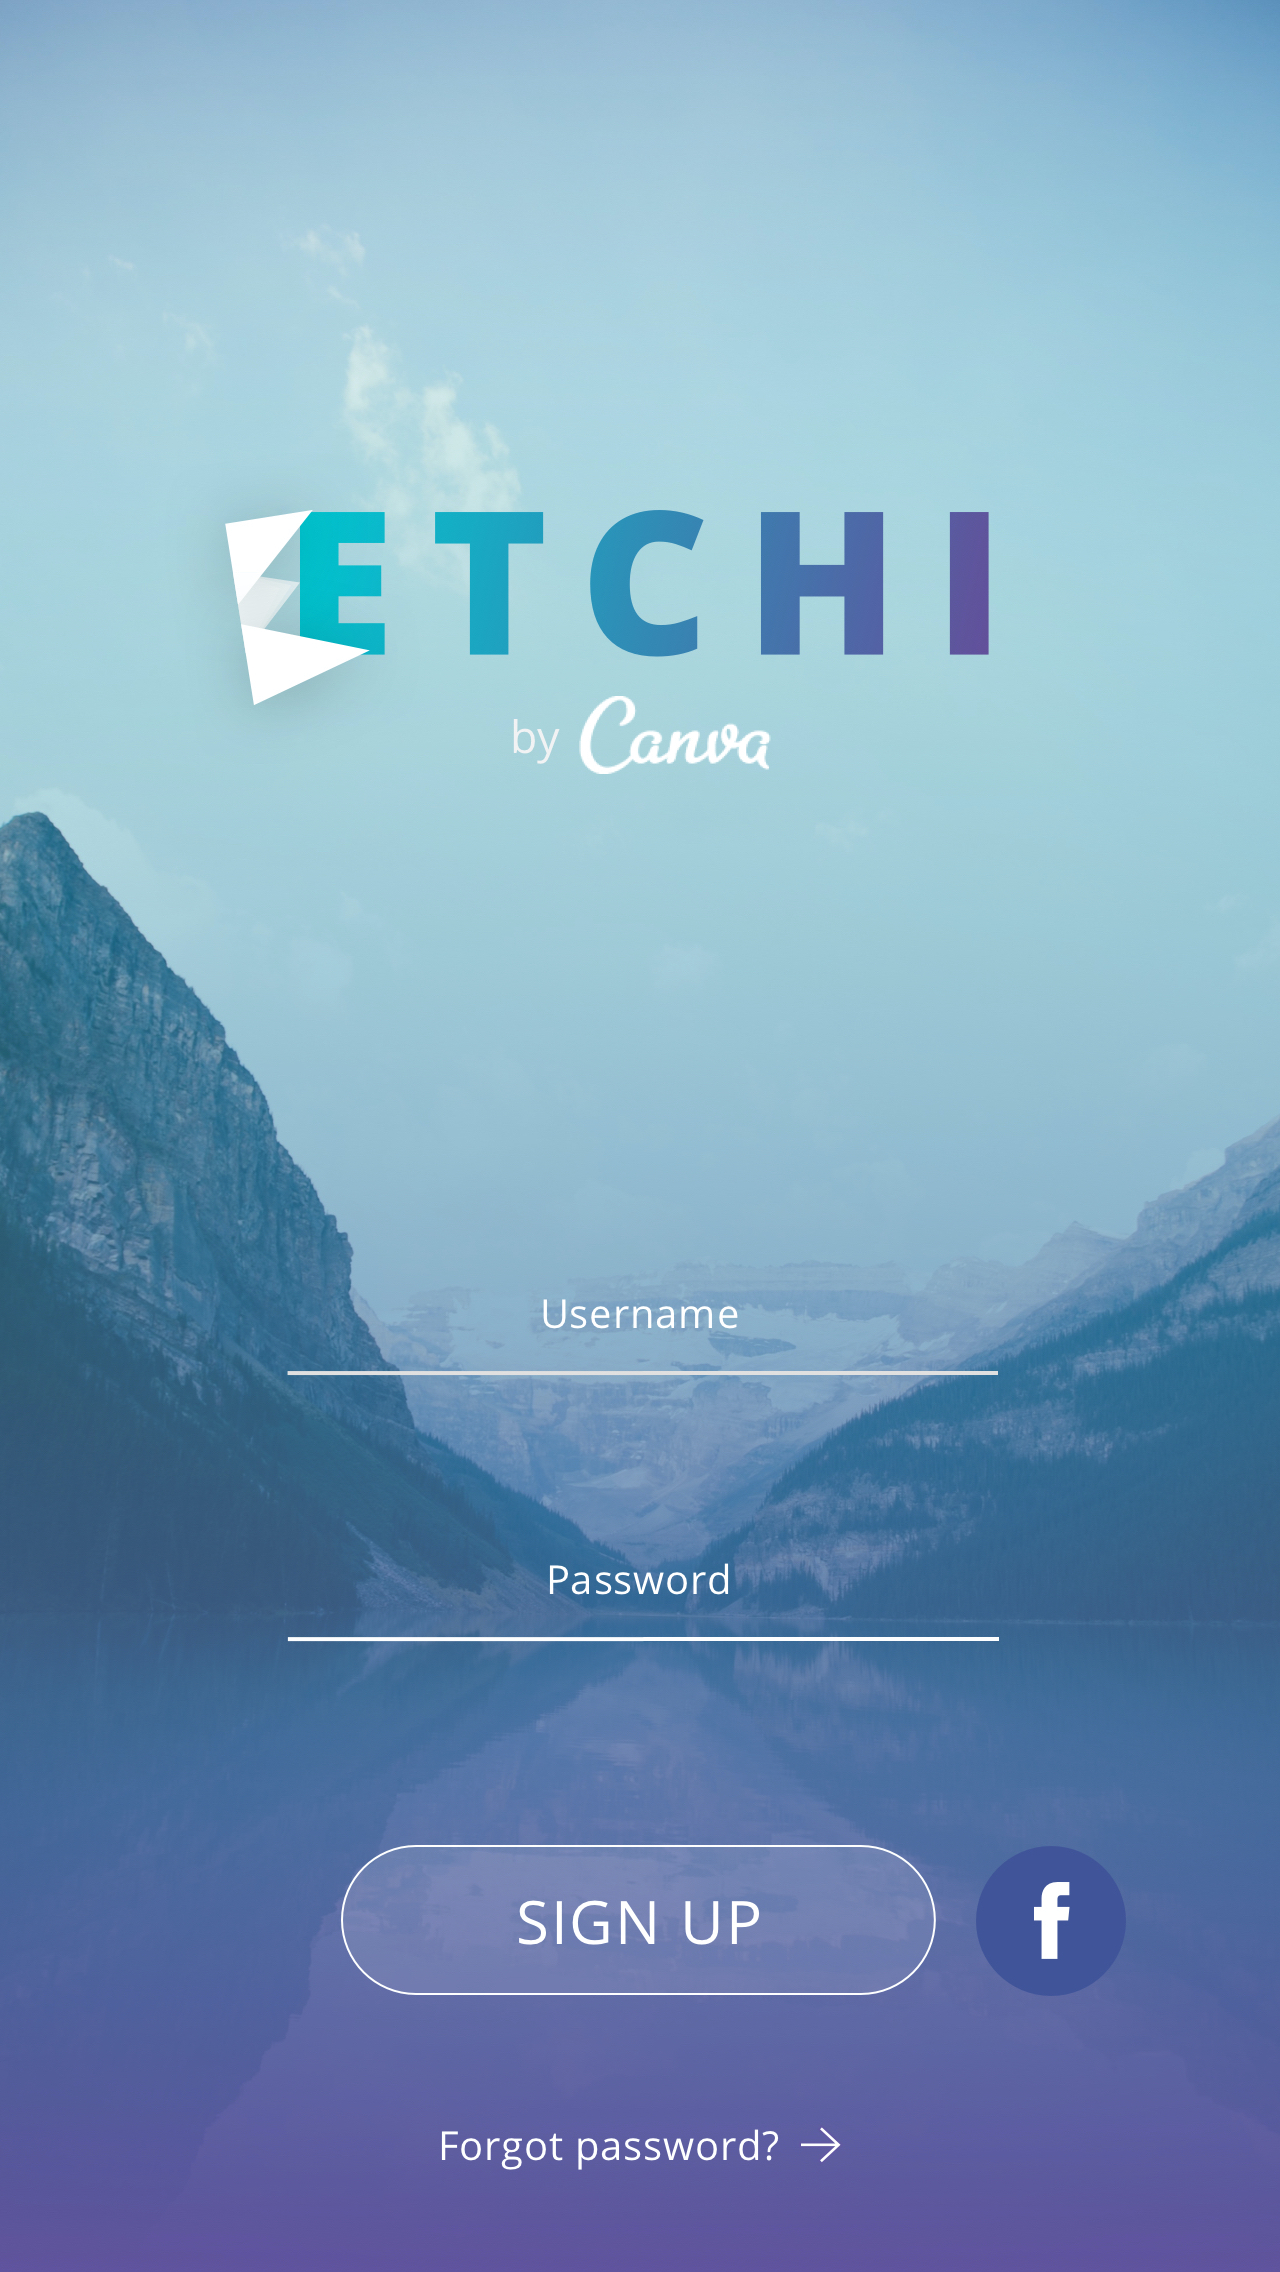BackgroundImage: (2, 2, 1280, 2272)
EditText: (287, 1562, 1001, 1642), (287, 1298, 999, 1376)
Icon: (976, 1846, 1127, 1997), (801, 2125, 841, 2163)
Image: (225, 509, 991, 777)
Text: (442, 2128, 780, 2171), (548, 1562, 729, 1596), (542, 1298, 738, 1329)
TextButton: (340, 1844, 937, 1996)
